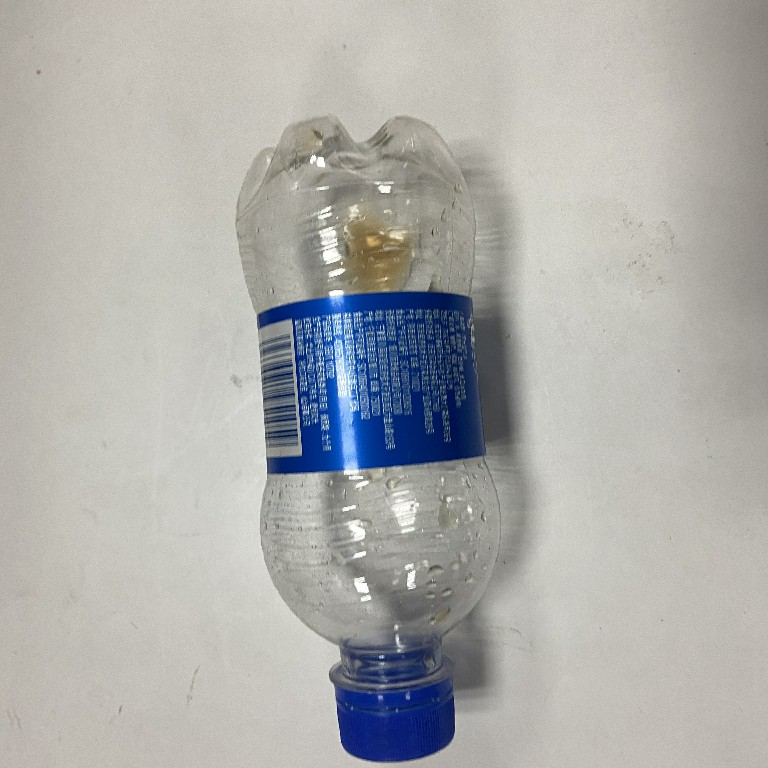bottle: (229, 110, 510, 768)
